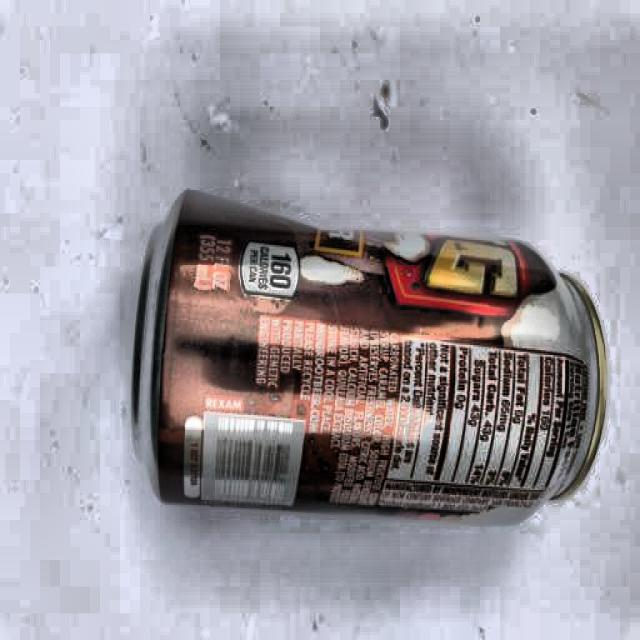metal: (121, 190, 609, 518)
